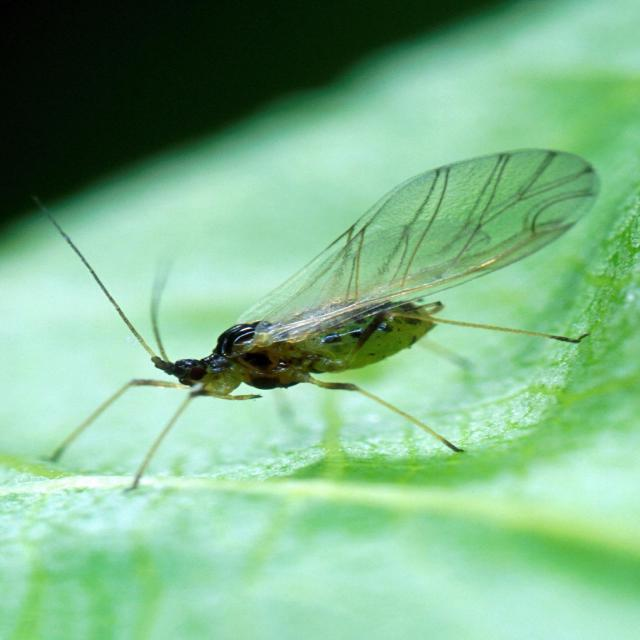aphid: (53, 142, 596, 482)
